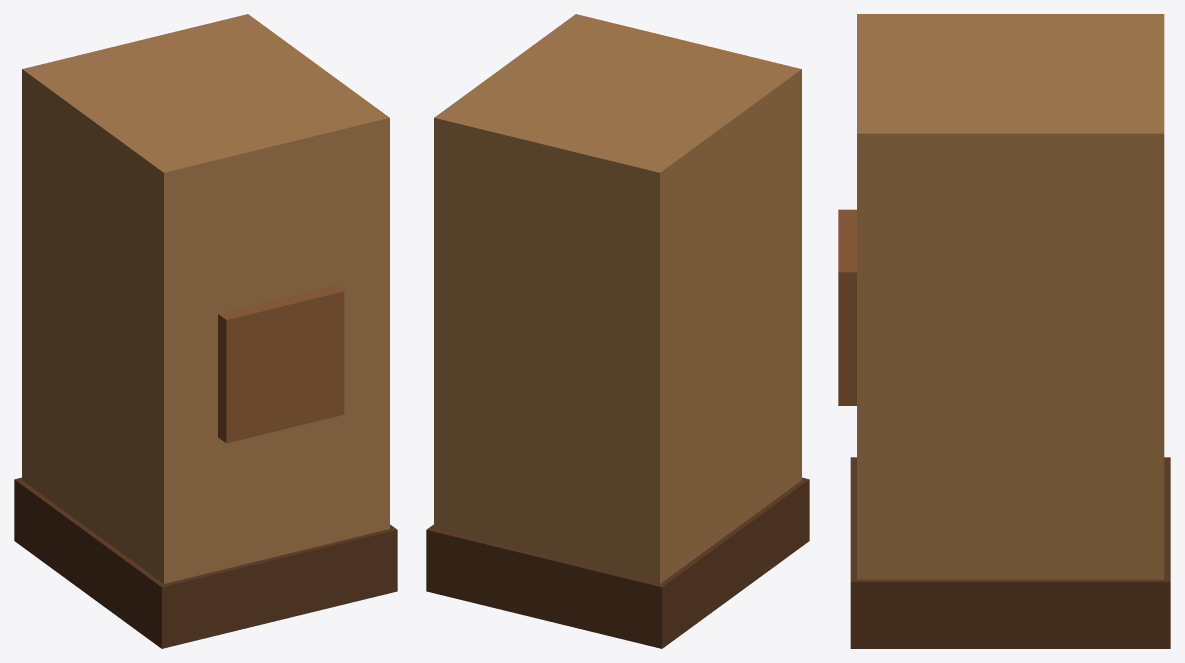
The model's file is rough_trousers.glb.
3 renders of one model, left to right at view 1: azimuth 30°, elevation 25°; view 2: azimuth 150°, elevation 25°; view 3: azimuth 270°, elevation 25°, orthographic. The views are drawn at different scales.
Parts seen in each view (by area): view 1: rough_trousers; view 2: rough_trousers; view 3: rough_trousers.
Part boxes in pixels (box(x1,y1,x2,y2)): rough_trousers: box(14, 14, 397, 648); rough_trousers: box(426, 14, 809, 648); rough_trousers: box(838, 14, 1170, 648).
Size of the model in its own units: 0.24 by 0.46 by 0.27.
